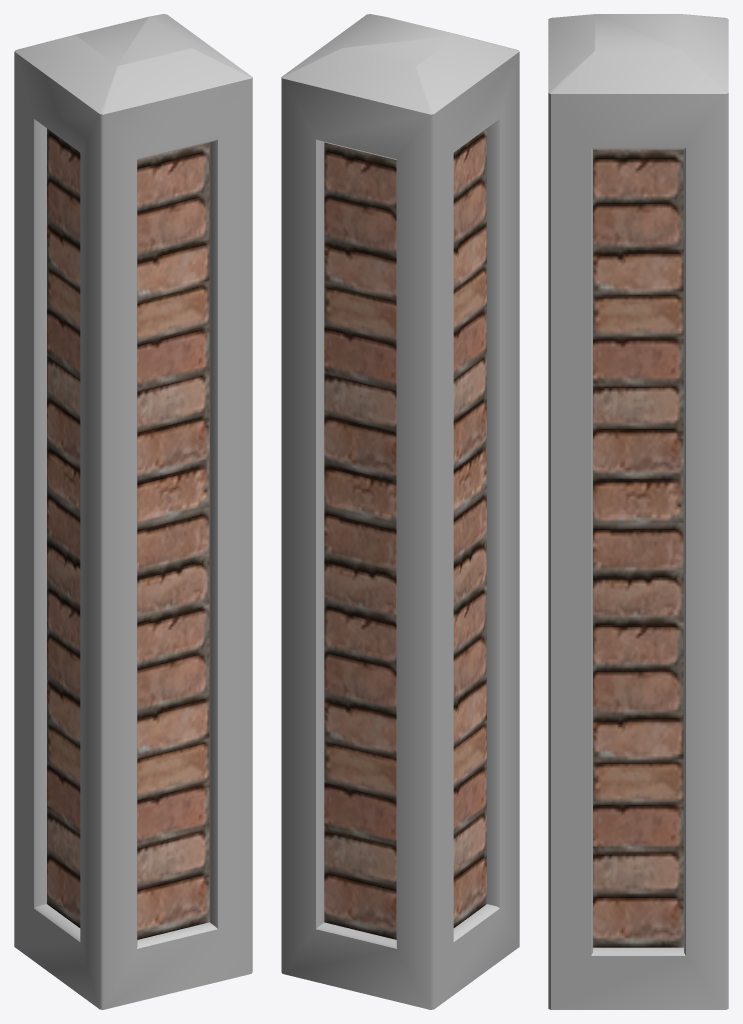
Rendered from brickwallpost01.FBX.
3 renders of one model, left to right at view 1: azimuth 30°, elevation 25°; view 2: azimuth 150°, elevation 25°; view 3: azimuth 270°, elevation 25°, orthographic. The views are drawn at different scales.
Visible parts, largest first — view 1: brick_wall_column_thin; view 2: brick_wall_column_thin; view 3: brick_wall_column_thin.
Part boxes in pixels (x1,y1,x2,y2): brick_wall_column_thin: (14, 14, 252, 1009); brick_wall_column_thin: (281, 14, 519, 1009); brick_wall_column_thin: (548, 14, 728, 1009).
Size of the model in its own units: 43.7 by 251 by 43.7.
